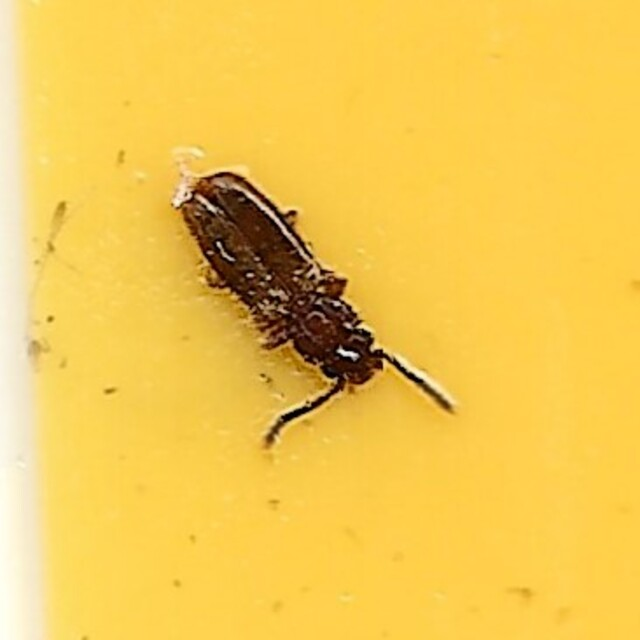Coleoptera: (175, 174, 465, 466)
